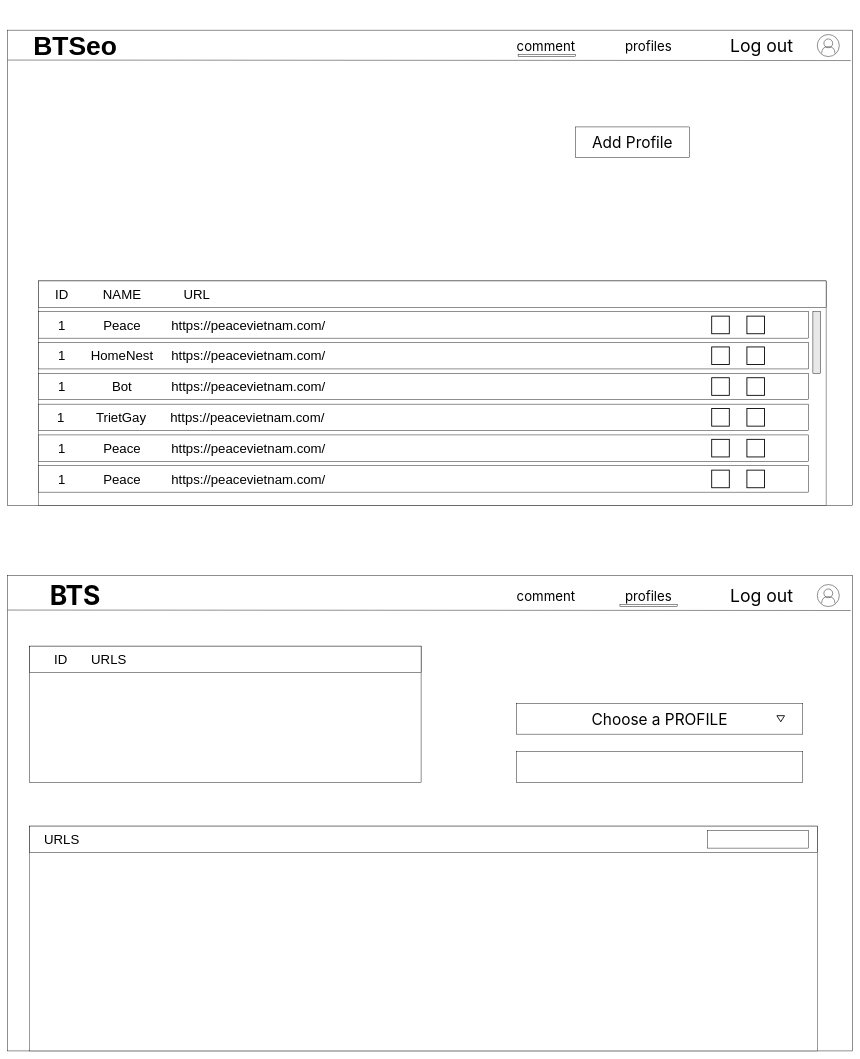
This 860x1059 diagram has some shape labels left out. The shapes that lost their labels are listed below. From the top down, each one's centre as x and y in pixels, then its label:
pixel 659 767: START
pixel 757 839: upload csv
